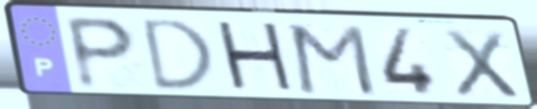4: (377, 25, 441, 98)
D: (140, 16, 218, 94)
H: (212, 19, 301, 97)
M: (287, 22, 380, 99)
P: (61, 13, 141, 93)
X: (440, 26, 524, 101)
